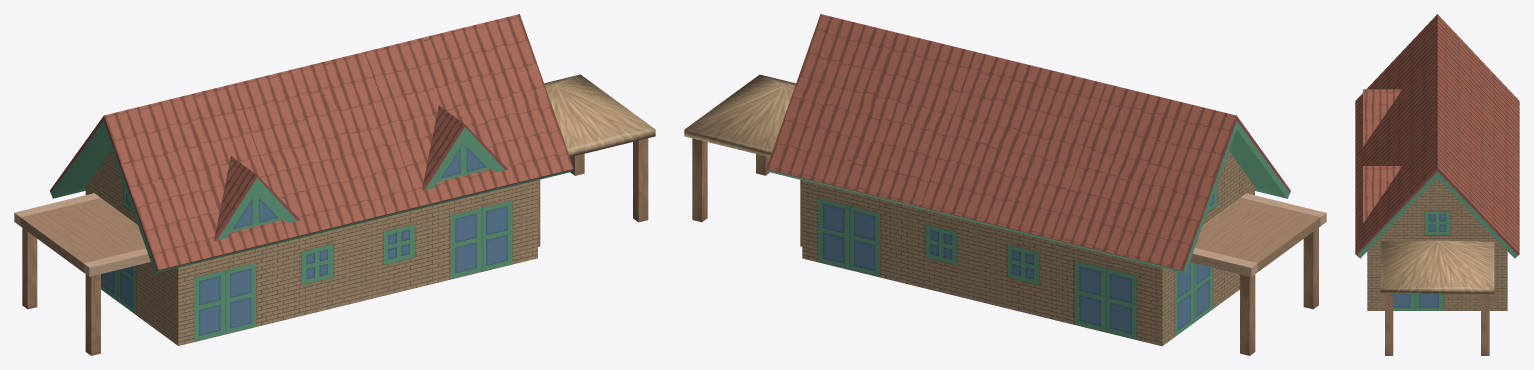
Rendered from CasaVinicola.fbx.
The picture shows the model from 3 angles, left to right: view 1: azimuth 30°, elevation 25°; view 2: azimuth 150°, elevation 25°; view 3: azimuth 270°, elevation 25°; orthographic projection. The views are drawn at different scales.
Parts seen in each view (by area): view 1: Cube.007; view 2: Cube.007; view 3: Cube.007.
Part boxes in pixels (<box>): Cube.007: <box>14,14,655,355</box>; Cube.007: <box>684,14,1326,355</box>; Cube.007: <box>1355,14,1519,355</box>.
Bounding box in the file's own units: 1578 × 542 × 524.
1 material, 1 textured.
